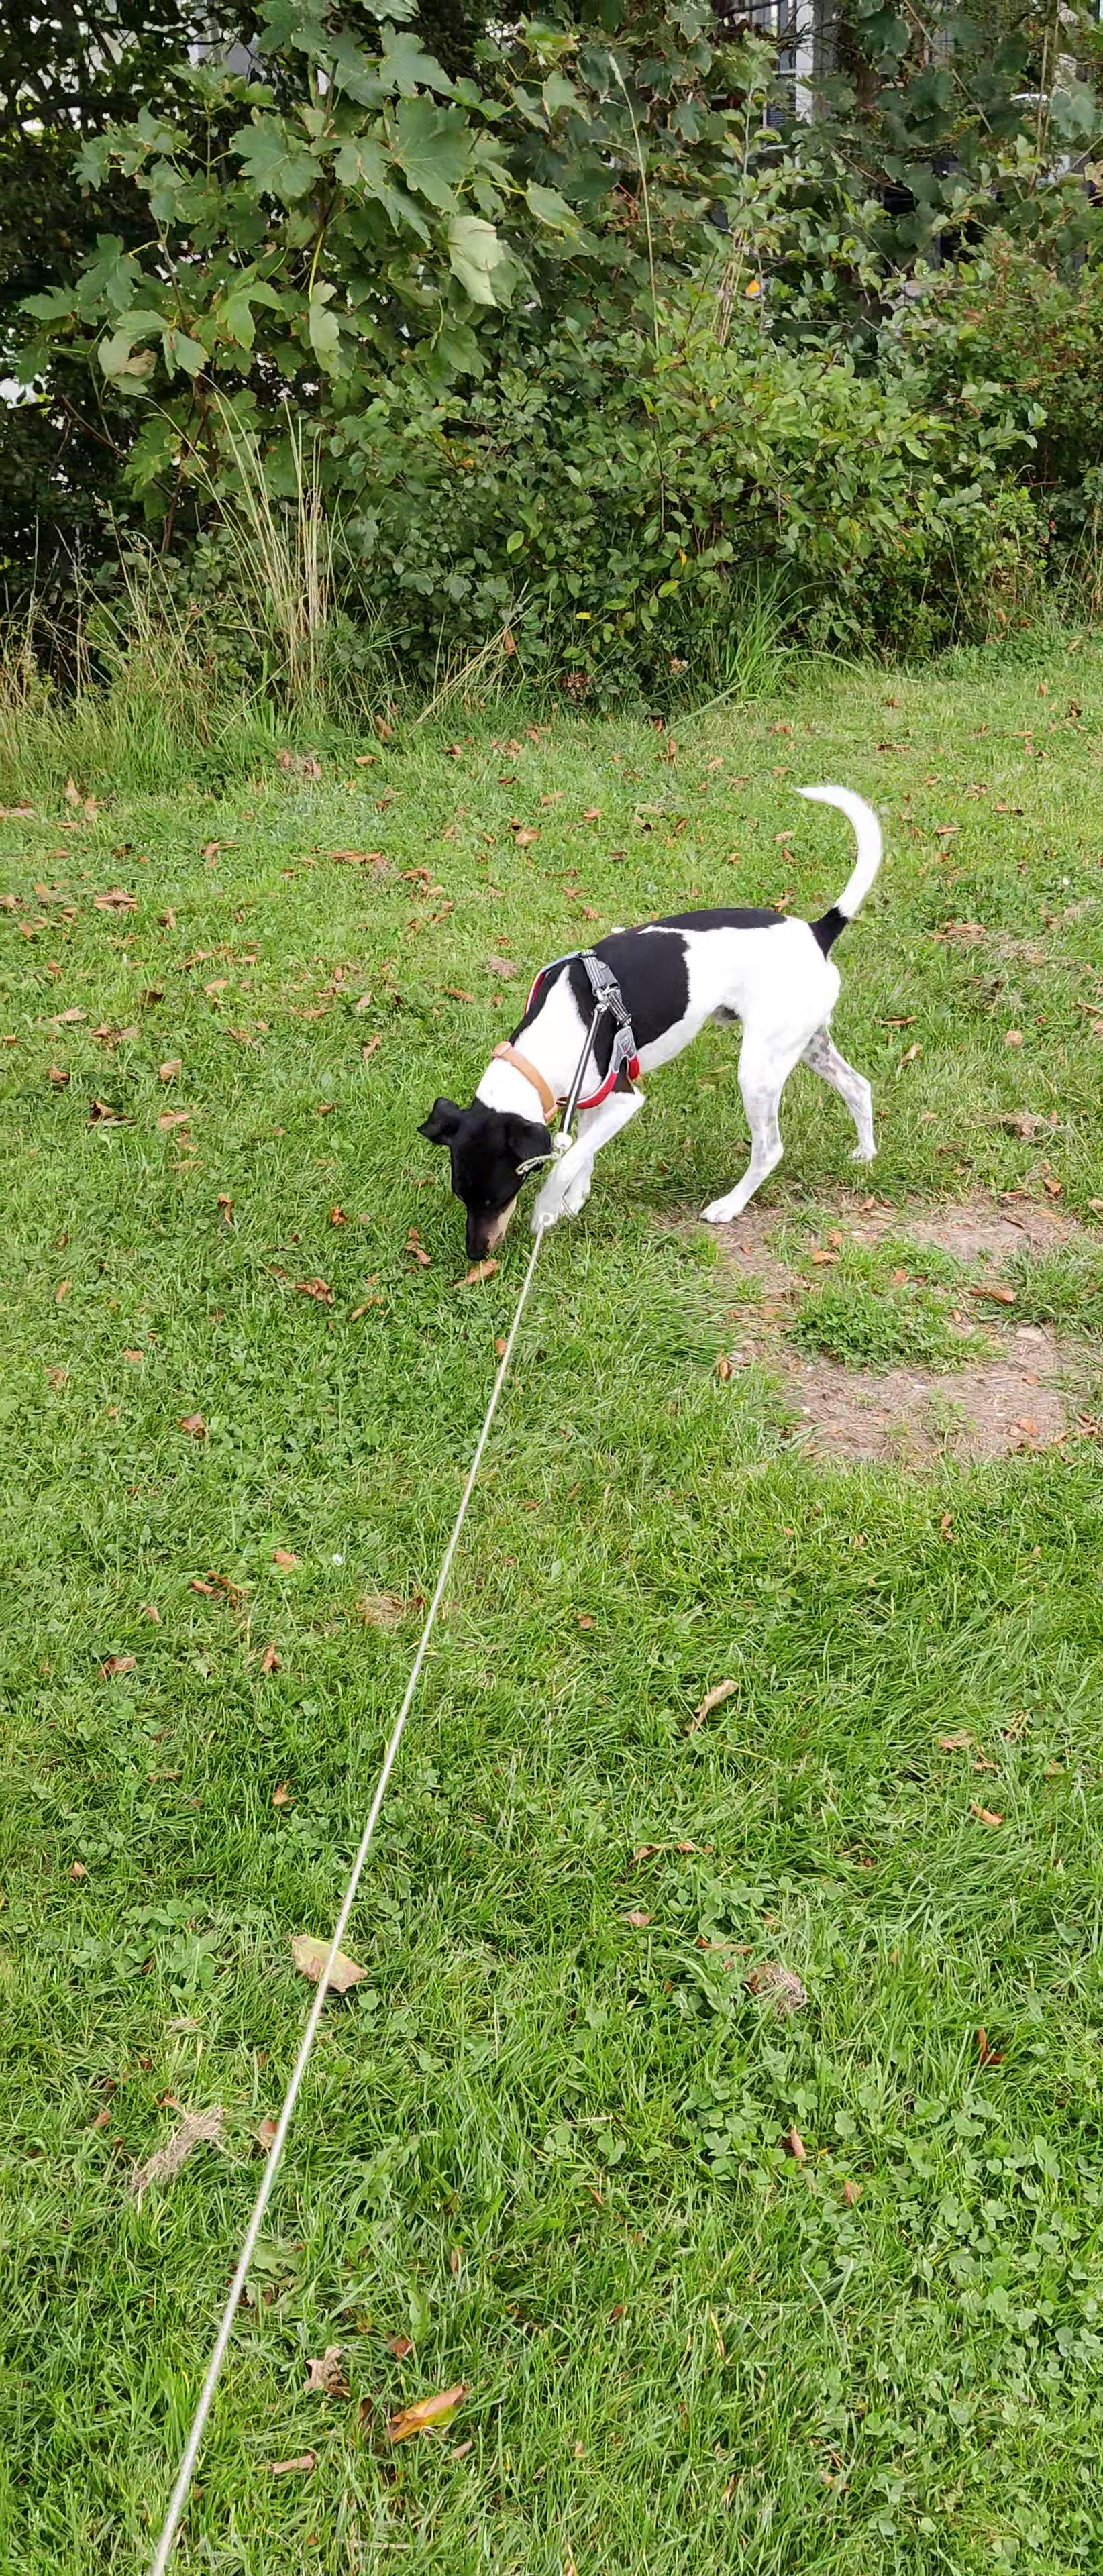Dog: (403, 769, 916, 1280)
